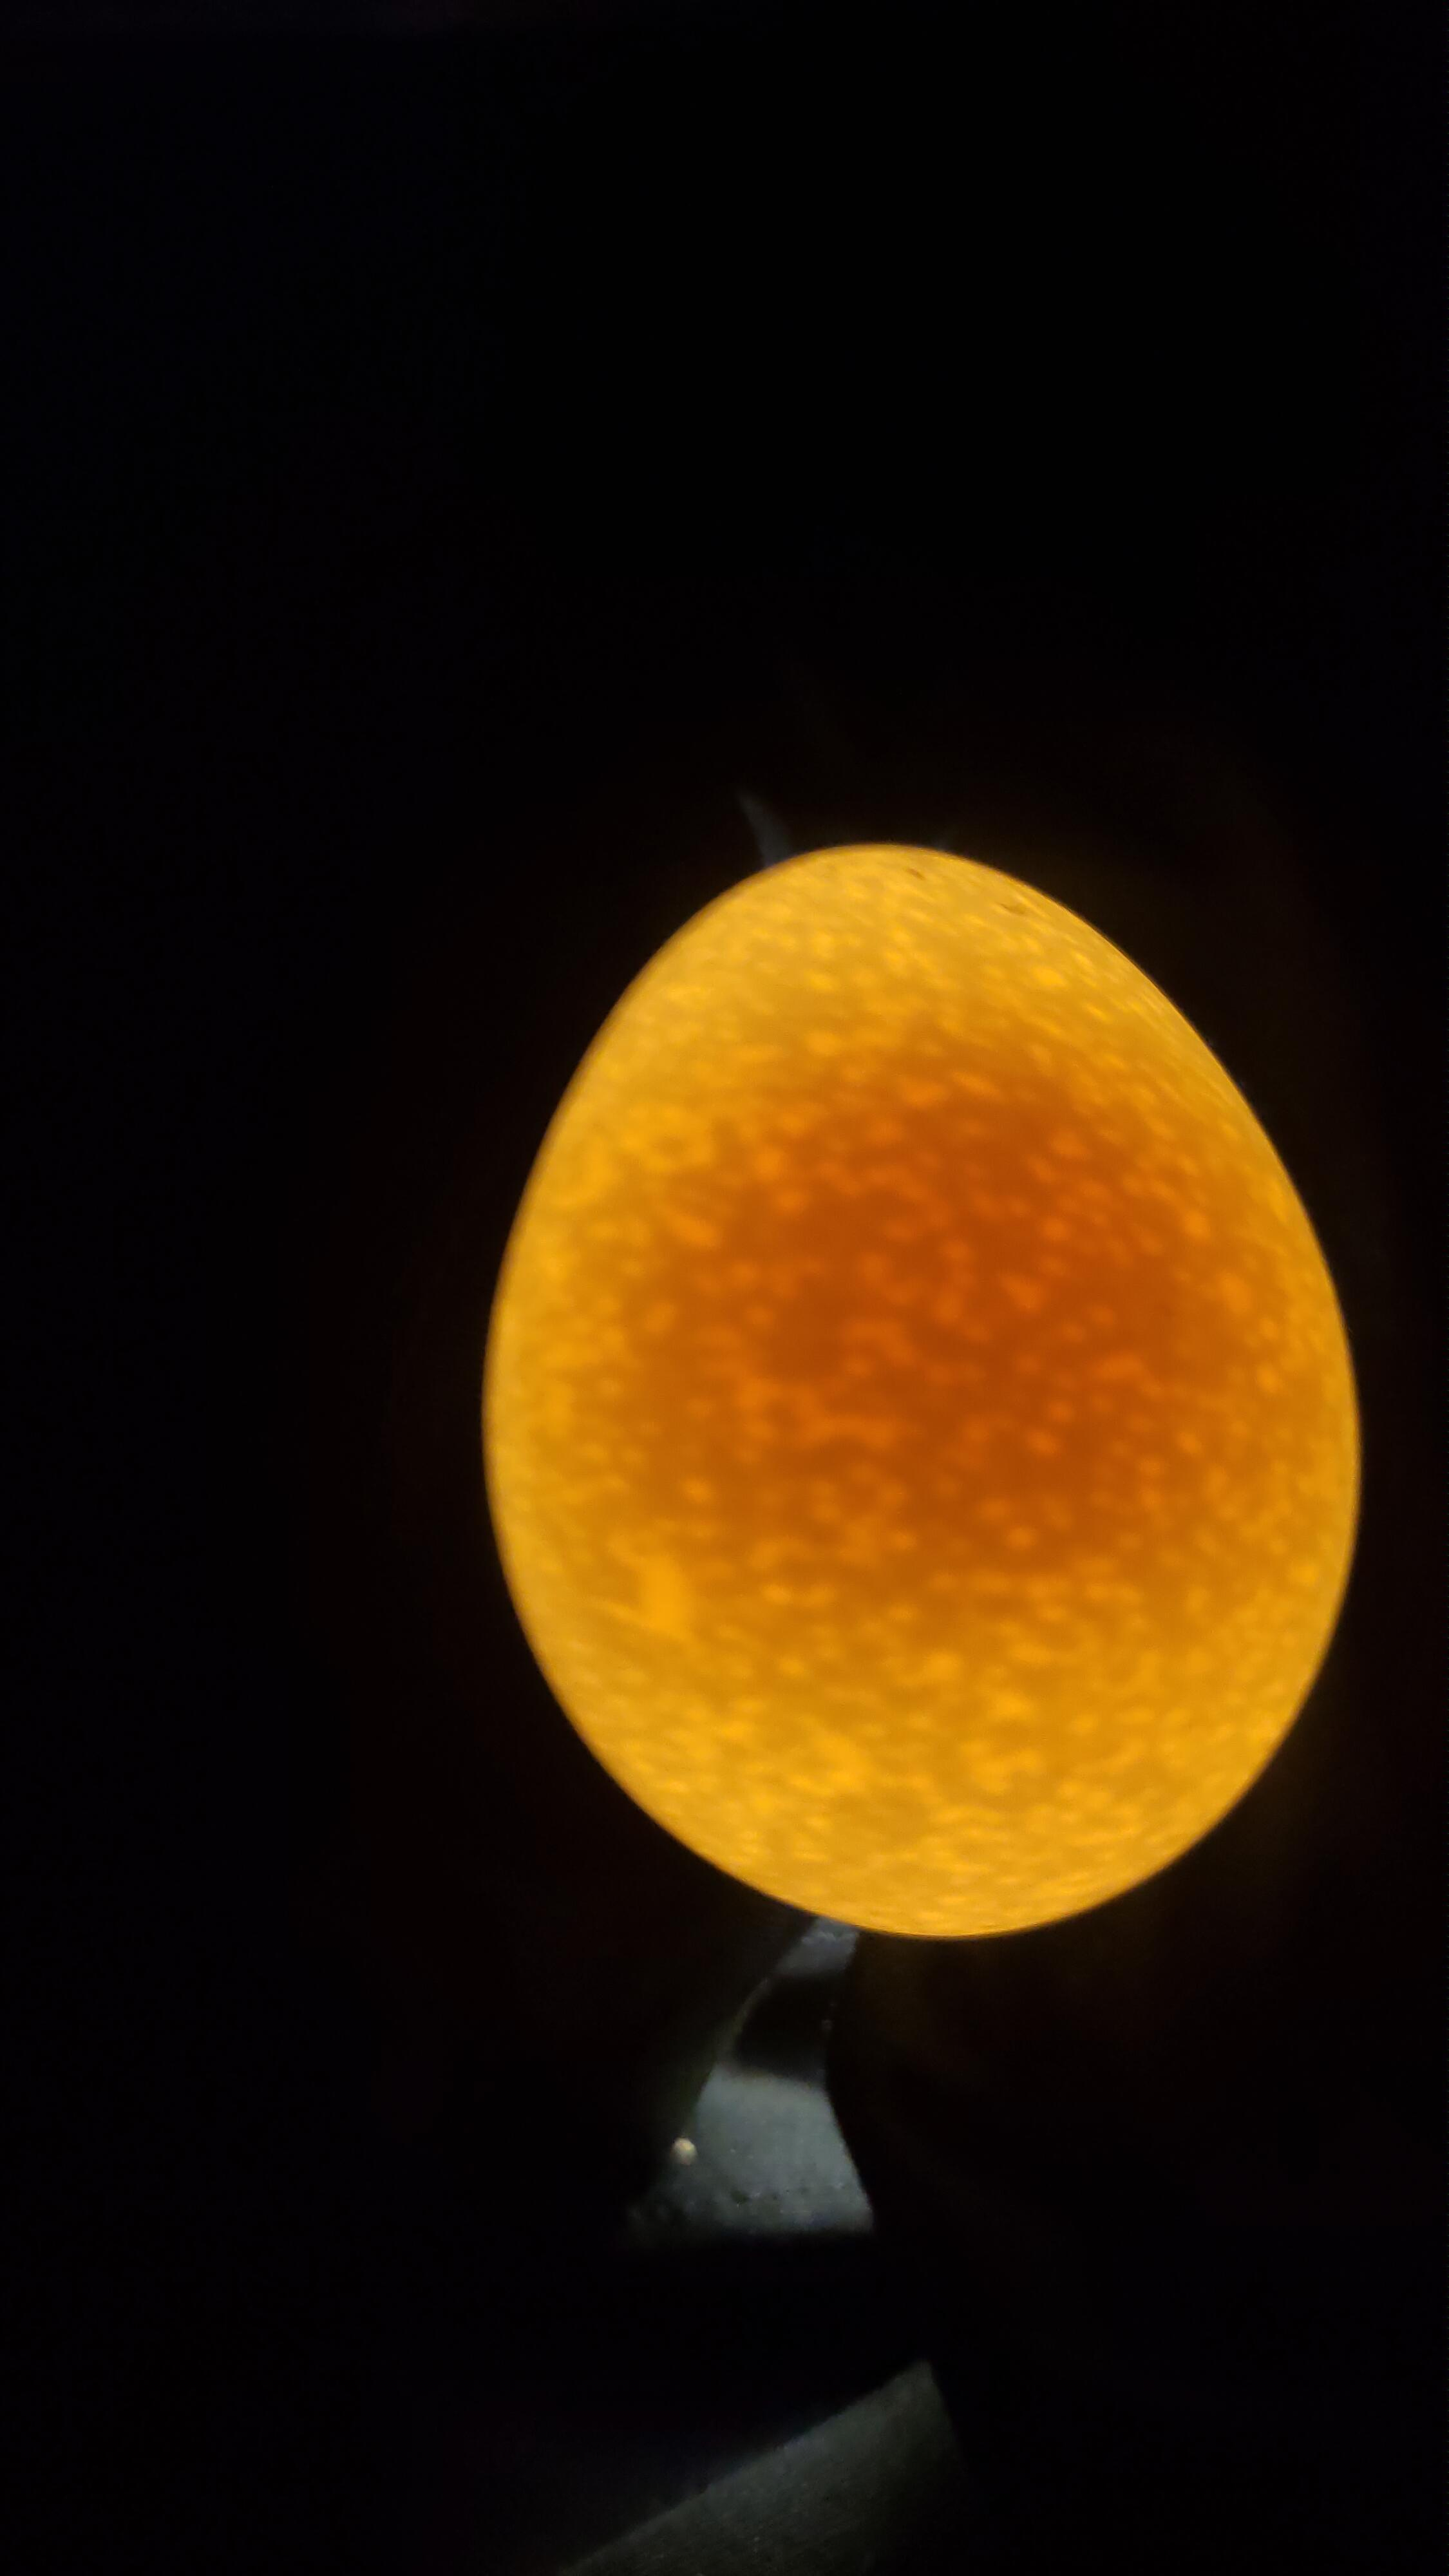A - Good: (425, 798, 1391, 1983)
